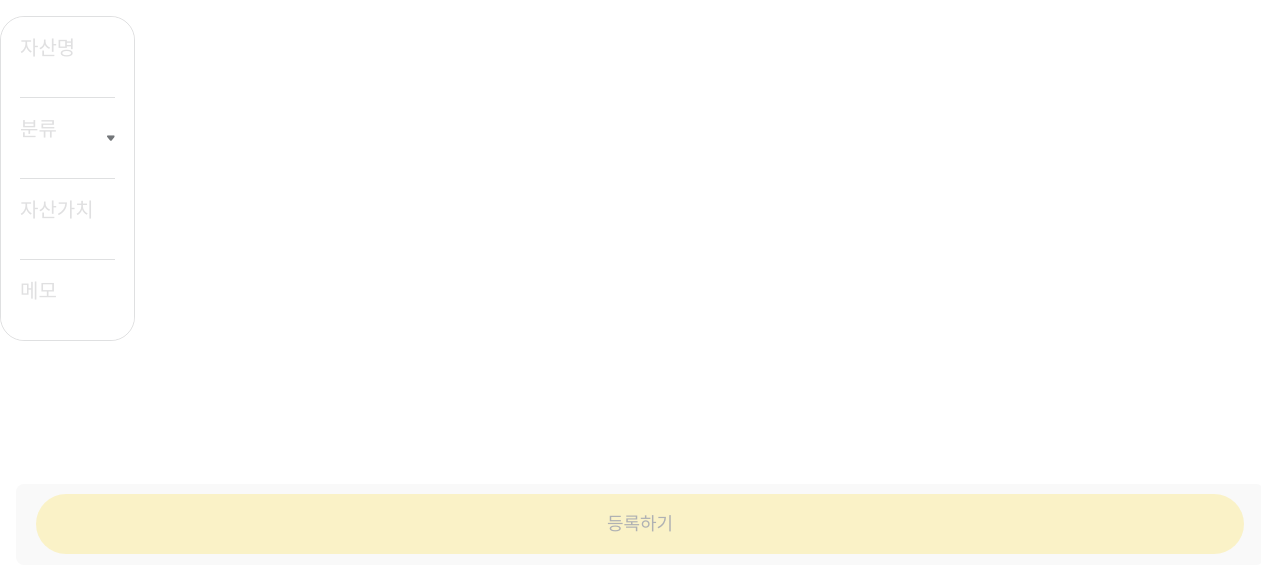
Test: RegisterAssetForm › 자산명은 필수값이며, 최소 1자, 최대 20자까지 입력이 가능합니다.
Click the button with test id "button-assetName": (67, 56) [1,16,134,96]
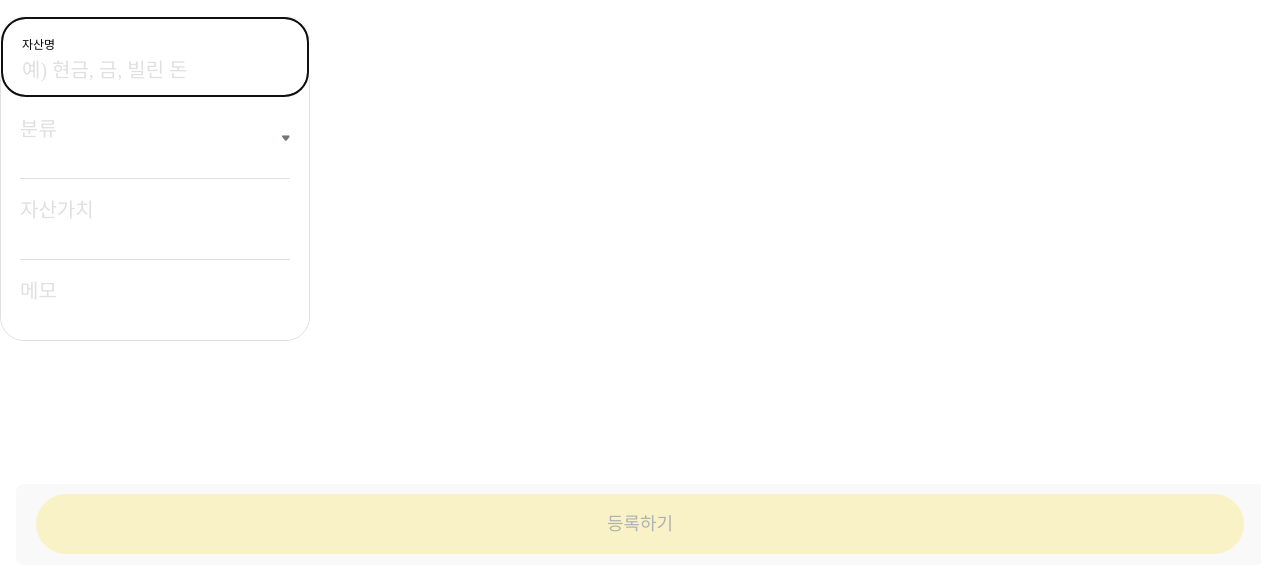
In the field with test id "input-assetName": (144, 70) [22,56,267,84], type "123456789012345678901"
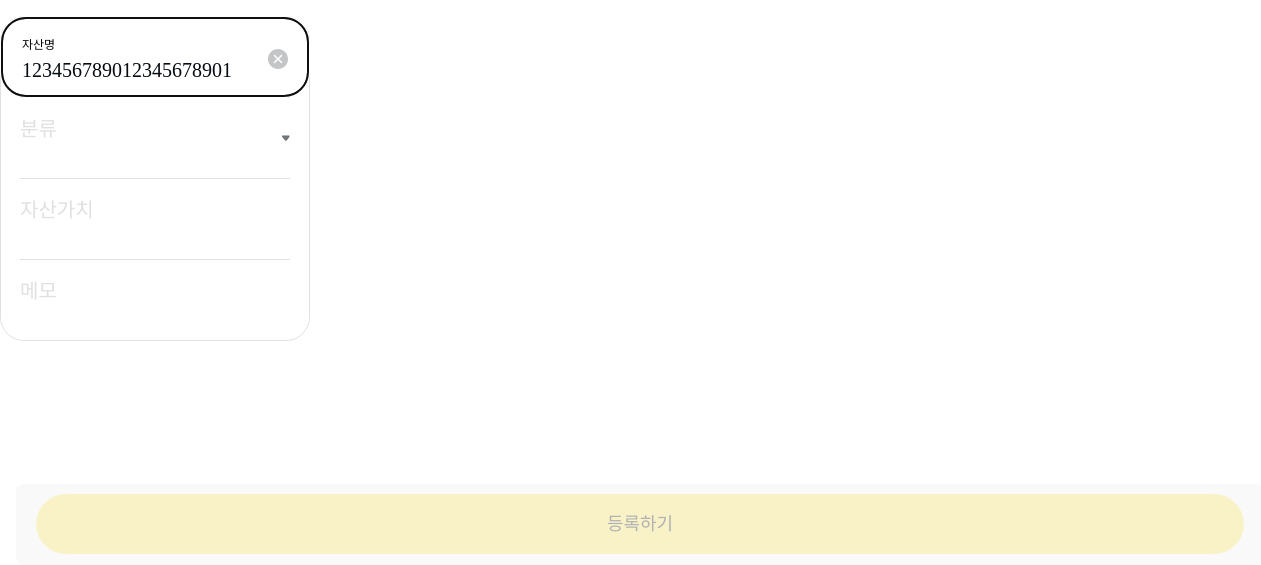
Leave the field with test id "input-assetName", box [22,56,267,84]
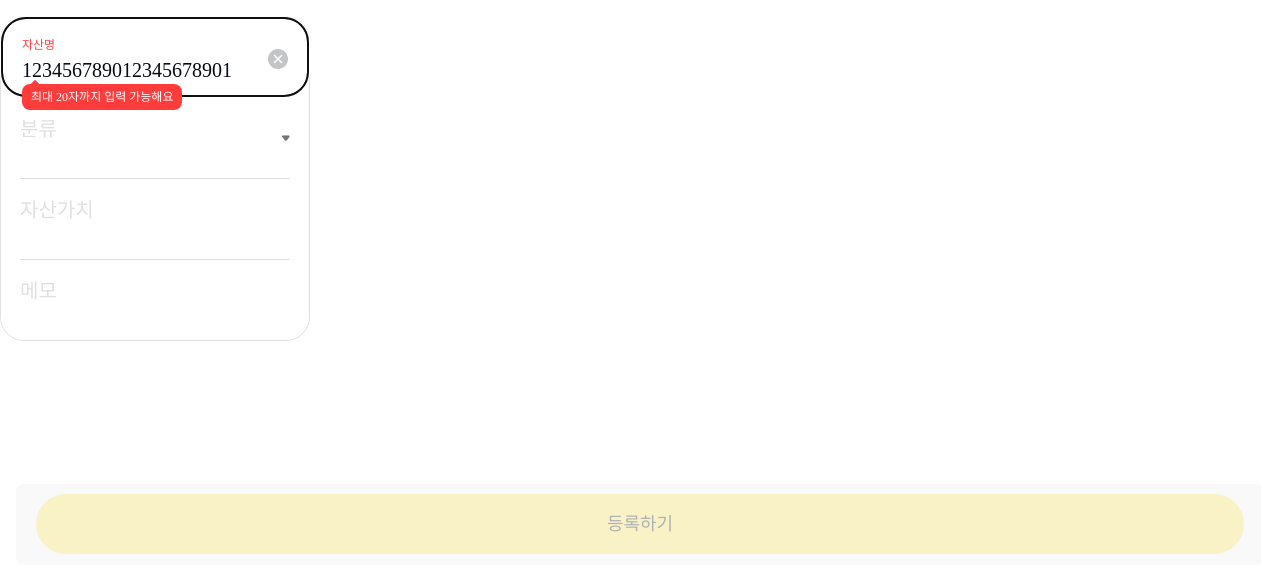
expect the text "최대 20자까지 입력 가능해요" is shown: met, box [22,84,182,110]
